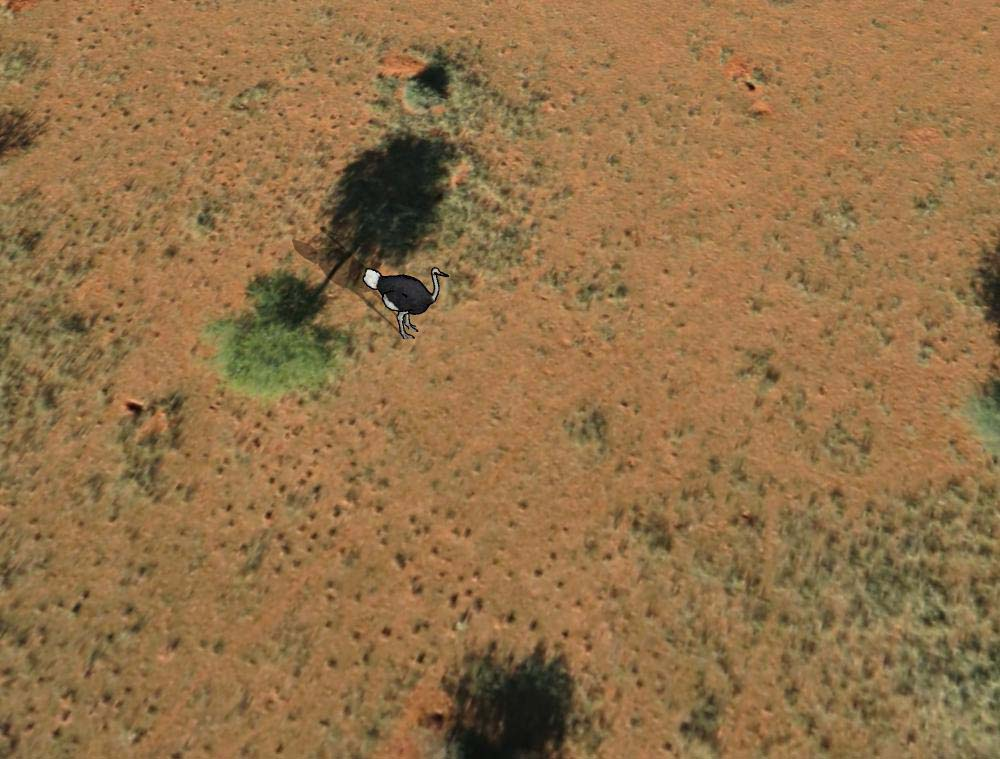ostrich: (363, 257, 455, 339)
